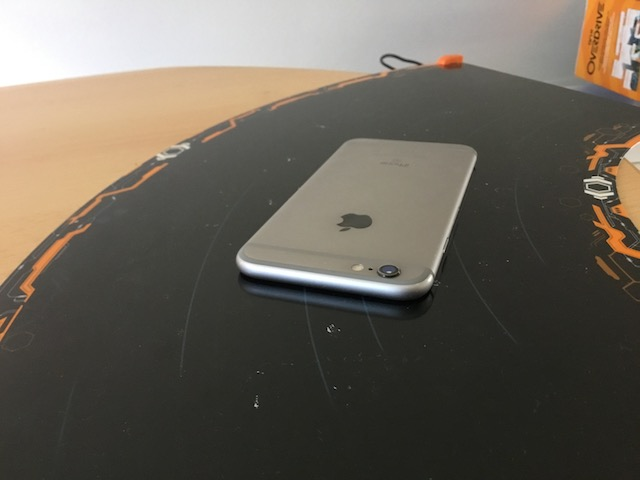phone: (232, 135, 480, 305)
